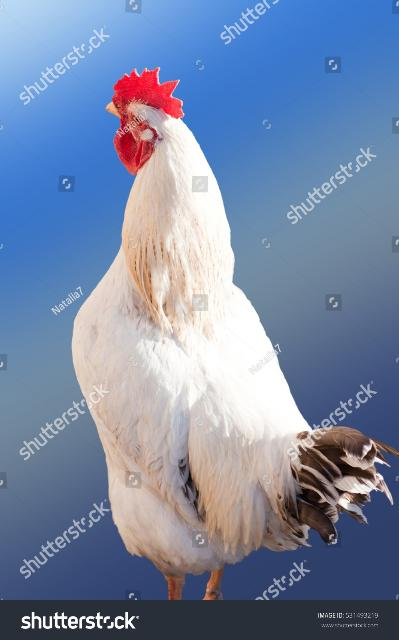Chicken: (72, 68, 395, 601)
